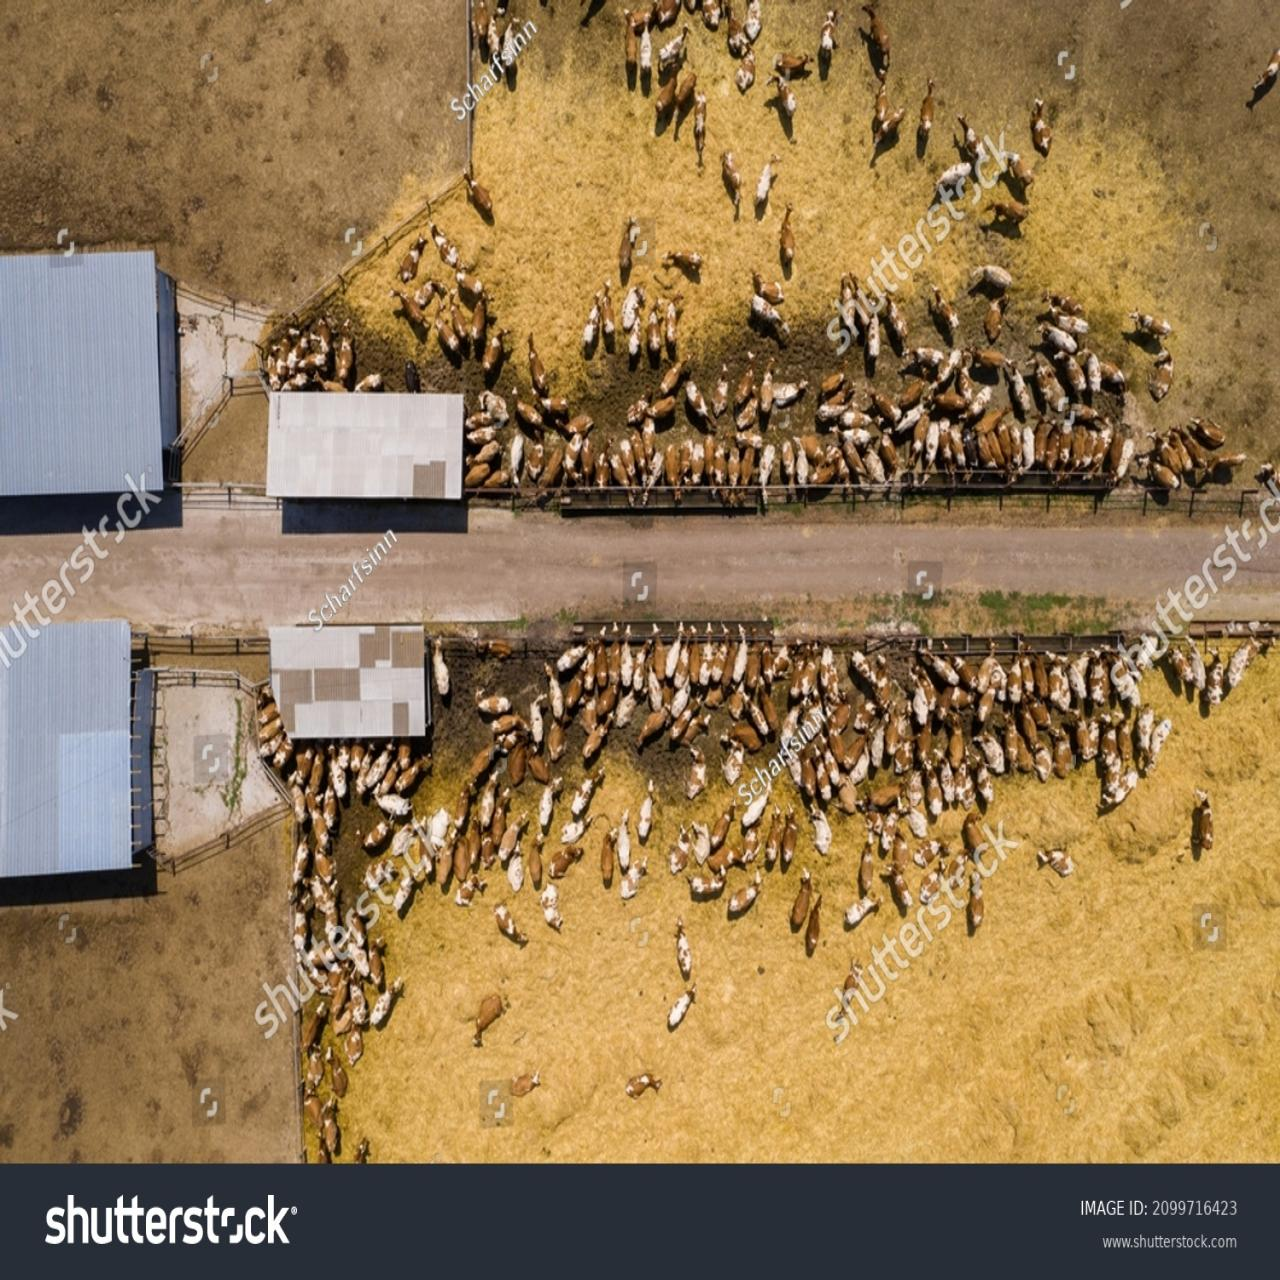cow: (467, 995, 515, 1050), (1187, 781, 1219, 862), (798, 893, 831, 960), (665, 988, 702, 1036), (790, 867, 815, 937), (669, 920, 702, 972), (775, 205, 801, 268), (491, 900, 523, 952), (618, 1067, 666, 1098), (511, 1076, 549, 1102)
